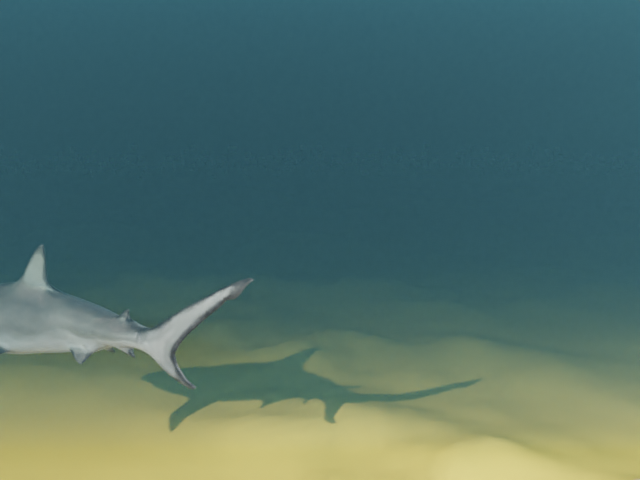Carribean Shark.001: (0, 244, 253, 390)
